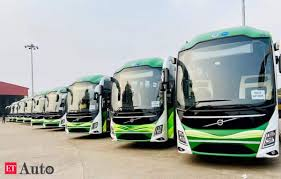bus: (160, 23, 281, 162), (99, 55, 178, 146), (61, 72, 113, 137), (42, 86, 65, 131), (30, 90, 45, 127), (16, 95, 28, 121), (9, 101, 17, 124)
